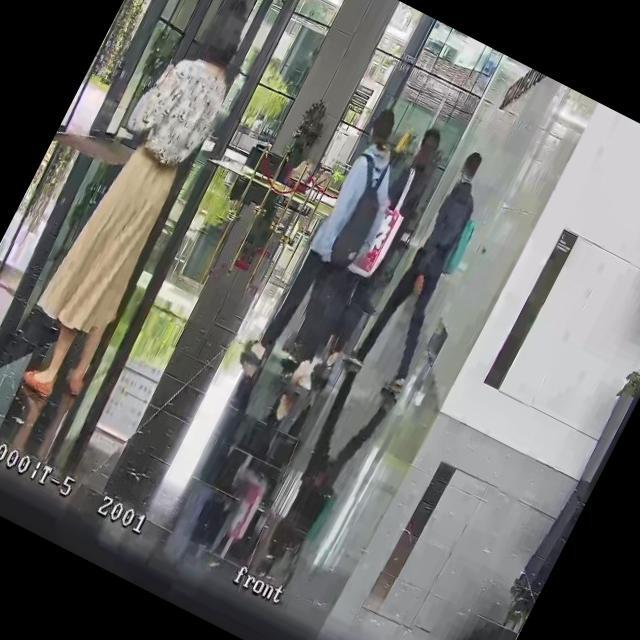person: (0, 0, 263, 416), (233, 98, 428, 395), (285, 116, 458, 392), (340, 142, 514, 400)
